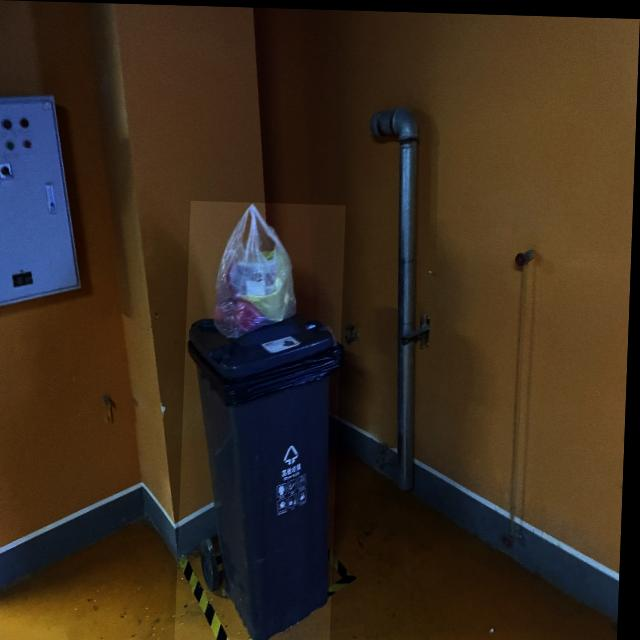overflow: (179, 200, 347, 640)
